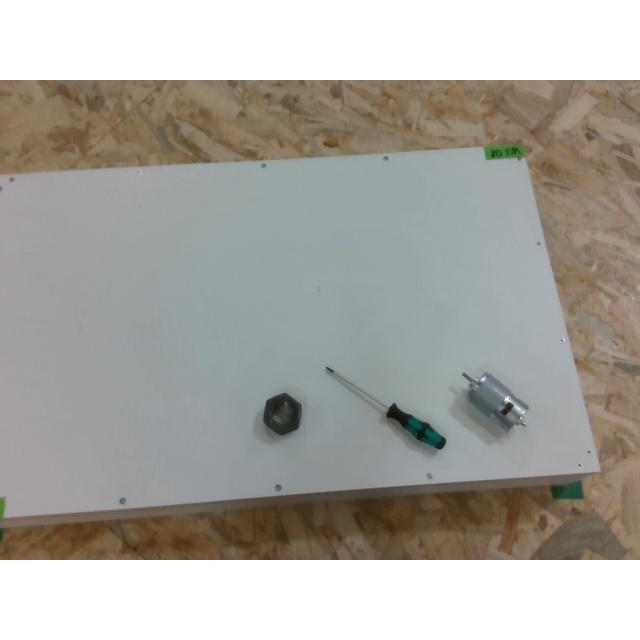M30: (263, 394, 301, 434)
Motor2: (460, 370, 528, 430)
Screwdriver: (326, 366, 446, 448)
